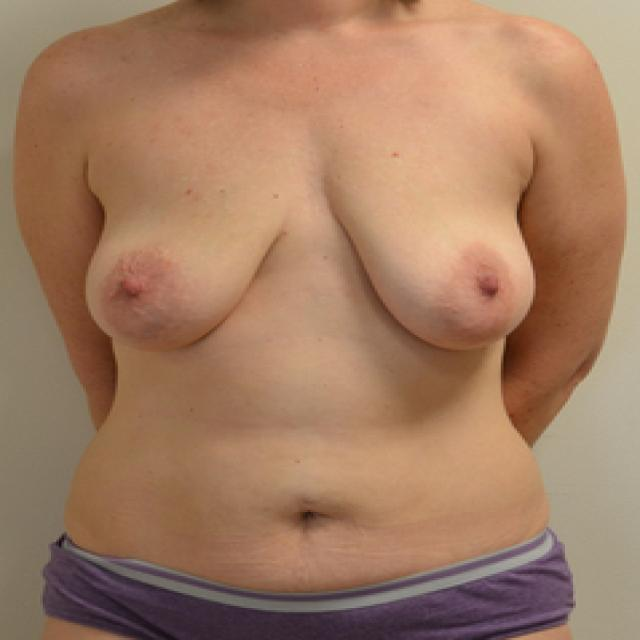Seno ileso: (312, 143, 542, 368), (78, 144, 306, 368)
